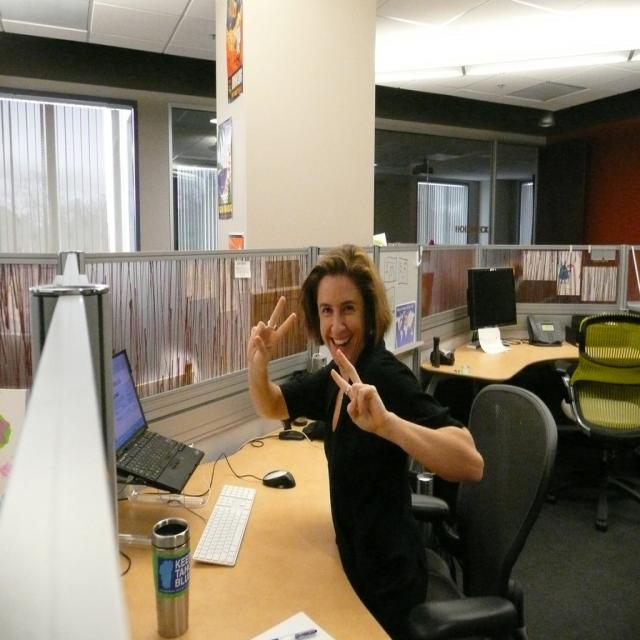chair: (398, 384, 558, 638), (555, 313, 640, 531)
desk: (118, 420, 391, 640)
keyboard: (192, 482, 257, 566)
laptop: (108, 348, 207, 494)
mouse: (262, 469, 296, 489)
person: (247, 246, 481, 636)
tv: (467, 267, 517, 331)
